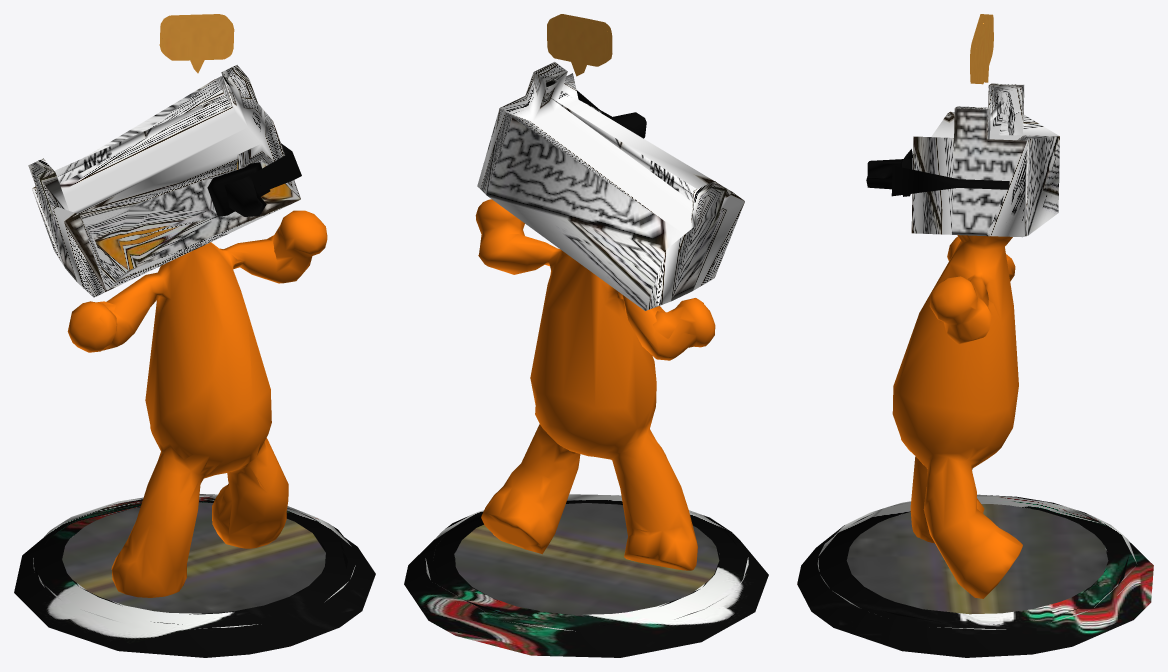
The picture shows the model from 3 angles, left to right: view 1: azimuth 30°, elevation 25°; view 2: azimuth 150°, elevation 25°; view 3: azimuth 270°, elevation 25°; orthographic projection.
Bounding box in the file's own units: 1.44 × 2.47 × 1.43.
Materials: 6 (4 with a texture image).
